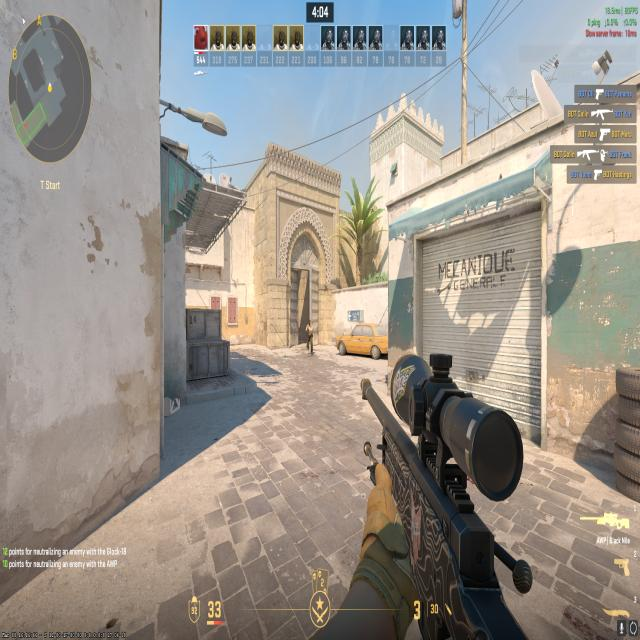t: (302, 316, 315, 354)
